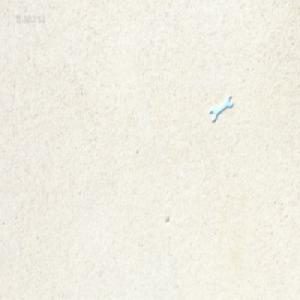Wrench: (208, 96, 232, 123)
